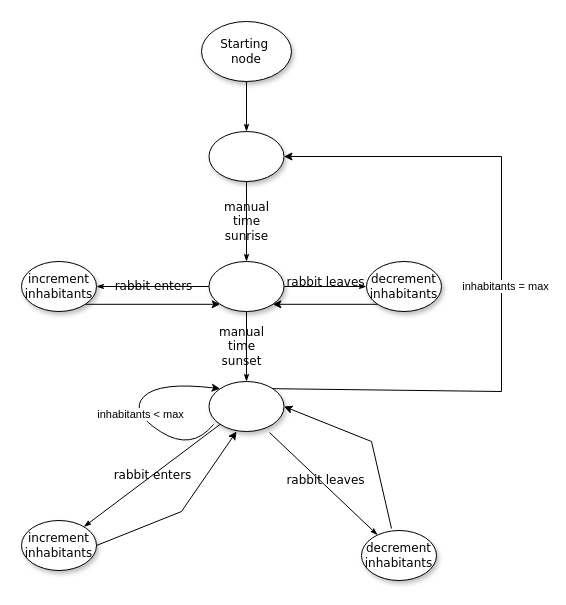
This 566x605 diagram has some shape labels left out. Each missing label, with the centre of its shape:
"door closed" belongs at pixel 247 157.
"door open" belongs at pixel 247 287.
"door should close" belongs at pixel 247 407.
